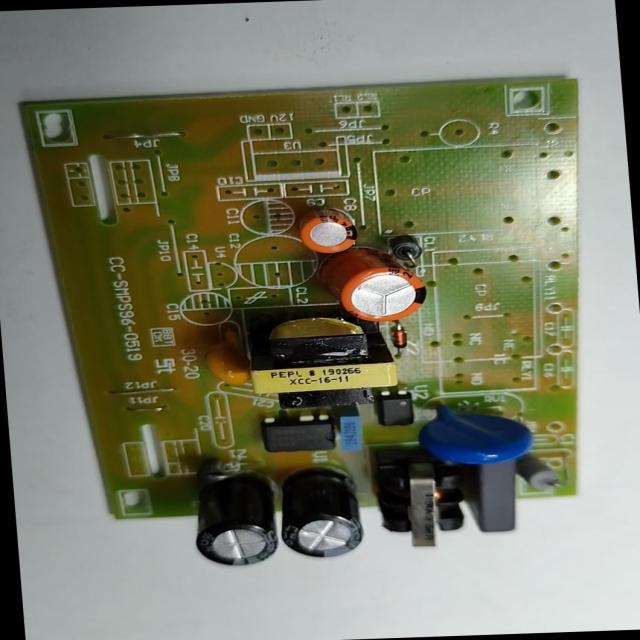Cap1: (326, 243, 428, 325)
Cap2: (294, 208, 359, 256)
Cap3: (275, 467, 366, 559)
Cap4: (190, 469, 280, 567)
MOSFET: (255, 416, 342, 455)
Mov: (415, 397, 537, 466)
Resistor: (519, 458, 565, 496)
Transformer: (235, 304, 403, 411), (375, 452, 471, 552)
